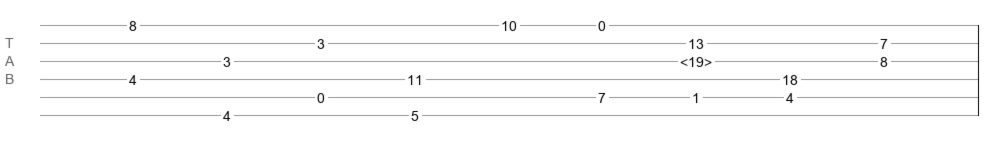0: (317, 90, 325, 100), (598, 18, 606, 28)
1: (692, 90, 700, 100)
10: (501, 18, 517, 28)
11: (407, 72, 423, 82)
13: (688, 36, 704, 46)
18: (782, 72, 798, 82)
3: (223, 54, 231, 64), (317, 36, 325, 46)
4: (129, 72, 137, 82), (223, 108, 231, 118), (786, 90, 794, 100)
5: (411, 108, 419, 118)
7: (598, 90, 606, 100), (880, 36, 888, 46)
8: (129, 18, 137, 28), (880, 54, 888, 64)
harmonic: (680, 54, 712, 64)
